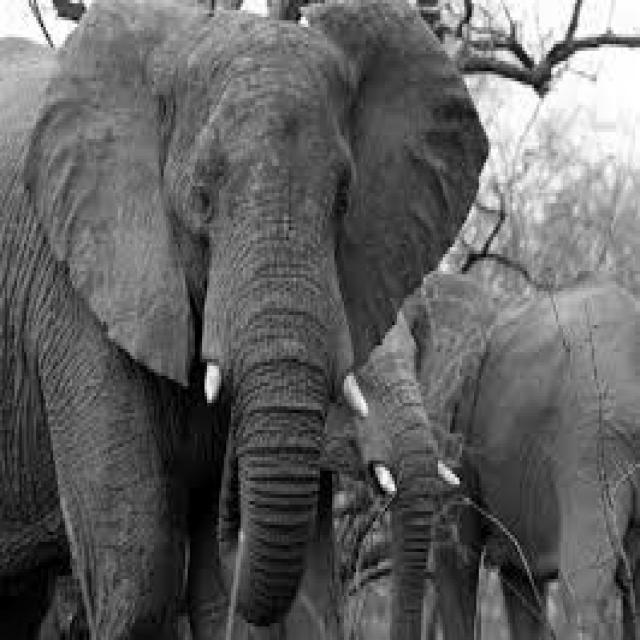Buffalo: (0, 0, 488, 636)
